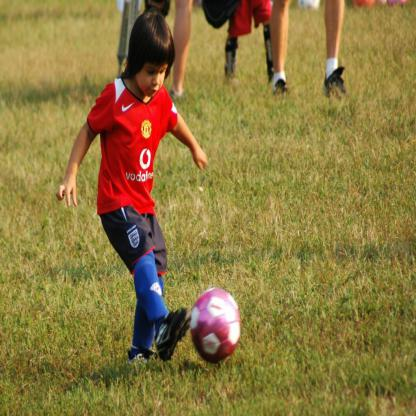Ball: (190, 288, 240, 366)
